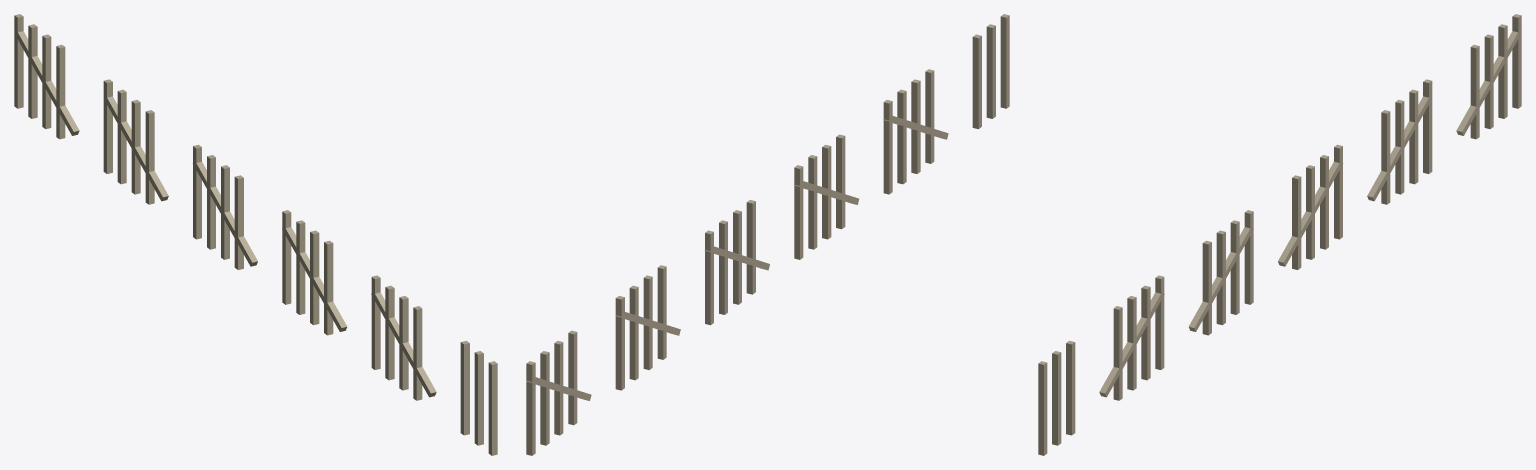
The model's file is food_tally_marks.glb.
3 renders of one model, left to right at view 1: azimuth 30°, elevation 25°; view 2: azimuth 150°, elevation 25°; view 3: azimuth 330°, elevation 25°, orthographic.
Parts seen in each view (by area): view 1: food_tally_marks; view 2: food_tally_marks; view 3: food_tally_marks.
Part boxes in pixels (left/top/right/bottom): food_tally_marks: left=14, top=14, right=497, bottom=455; food_tally_marks: left=526, top=14, right=1009, bottom=455; food_tally_marks: left=1038, top=14, right=1521, bottom=455.
Bounding box in the file's own units: 0.006 × 0.09 × 0.8565.
